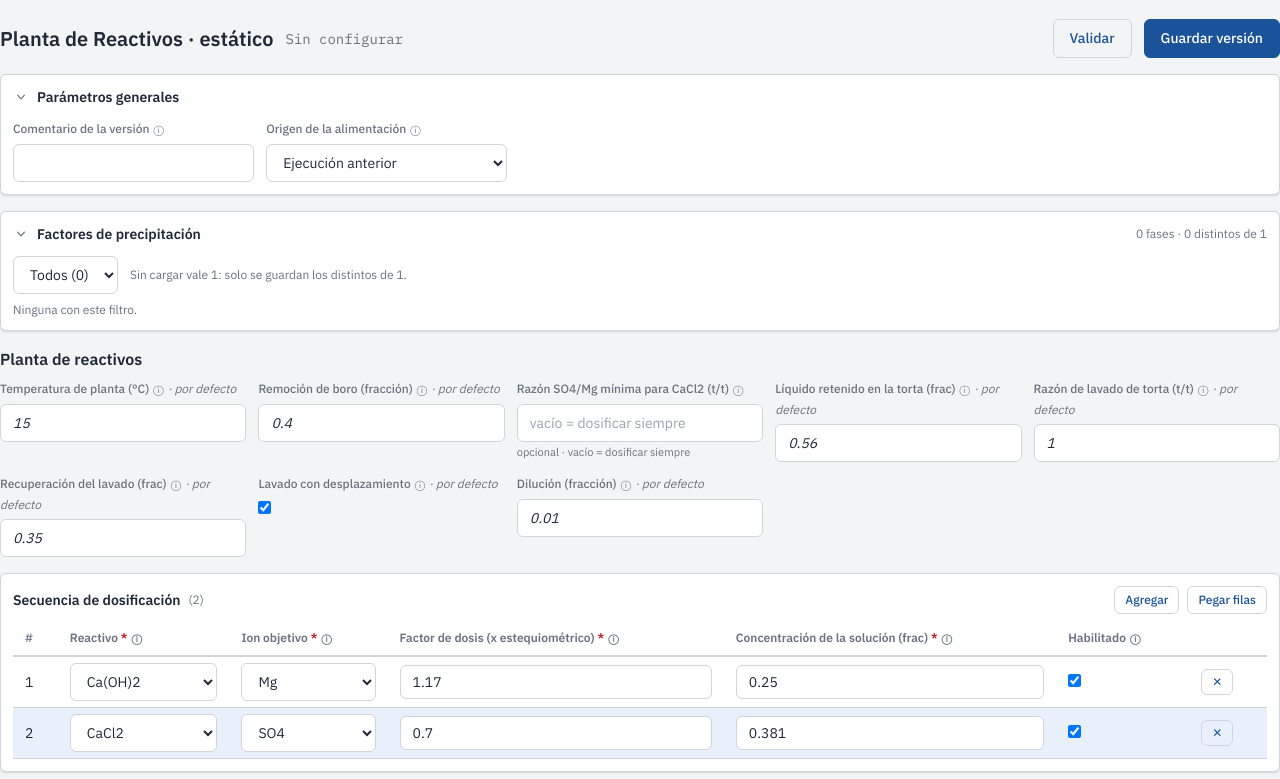
Test case: el diccionario se pide por sección (puntos 10 y 11) › planta del estático con datos: clima opcional con su nota, y la densidad de la alimentación
The image size is (1280, 779).
Select "Datos de la sección" in the dropdown with test id "field-feed_source" at (387, 163), box [266,144,507,182]
(page scrolled)
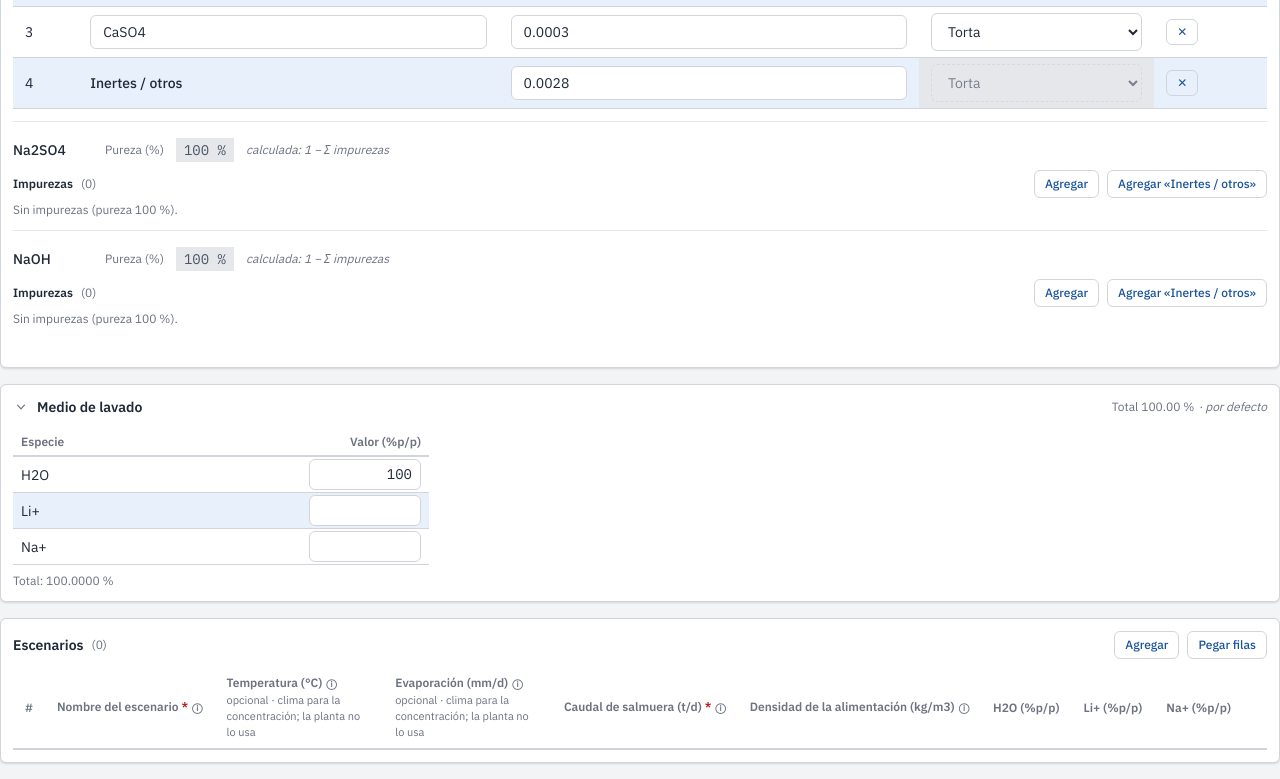
Expected: the column heading does not show "*"
Expected: the text with test id "note-scenarios.temperature_C" reads "opcional · clima para la concentración; la planta no lo usa", [226,692,371,740]
